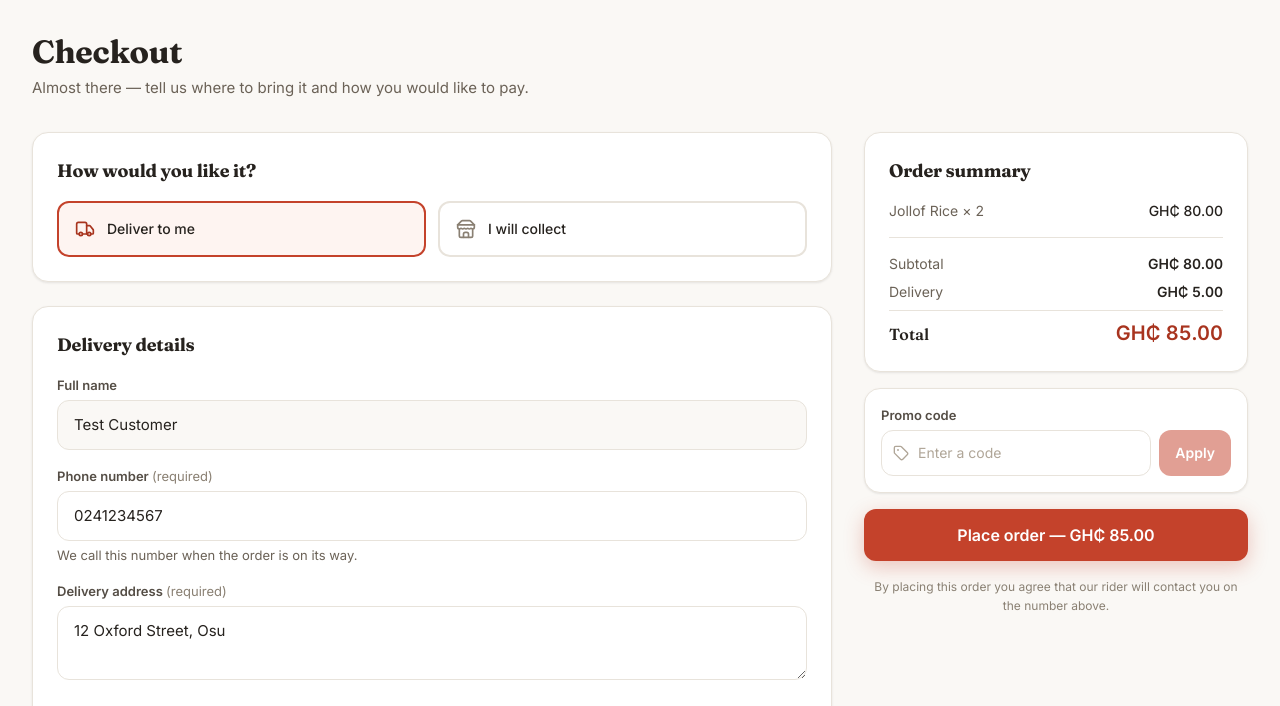
Test: CheckoutPage › does not offer the address field when the customer is collecting
This screenshot has width=1280, height=706.
Expected: the button "Place order — GH₵ 85.00" is enabled, [864,509,1248,561]
Step 1. Click the button "I will collect" → (527,228), box [438,201,807,257]
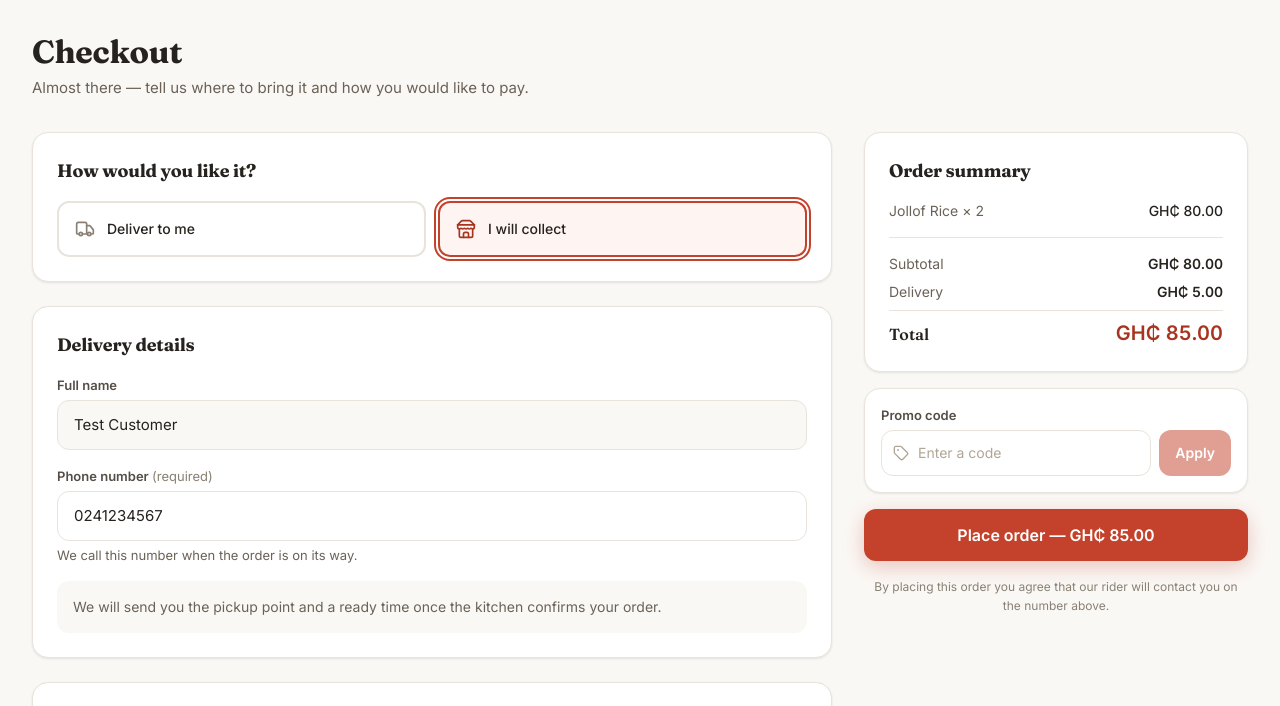
Now the label labelled "Delivery address" is gone
